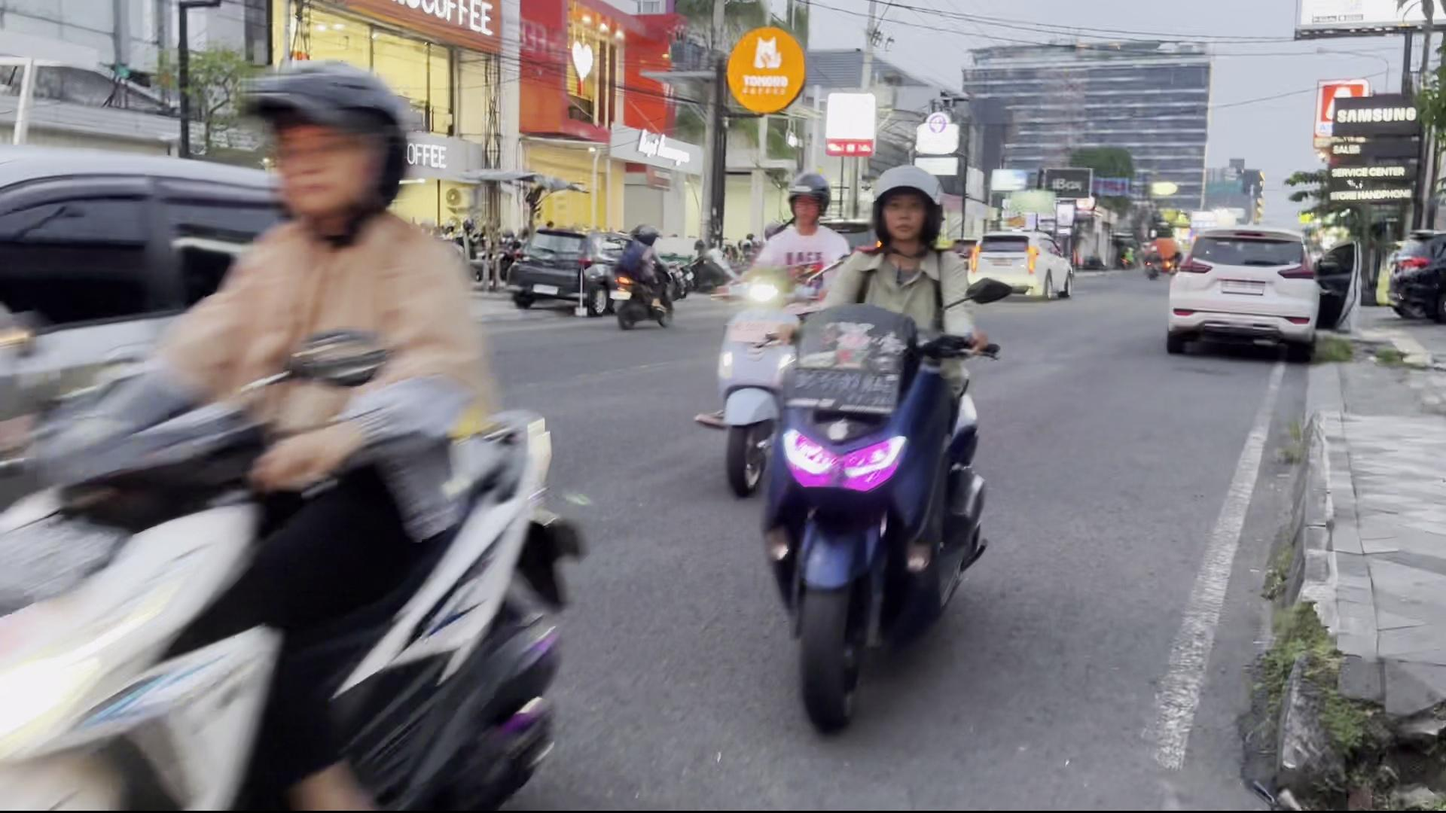helm: (867, 162, 948, 259), (781, 170, 833, 226)
riding: (756, 160, 1009, 745)
